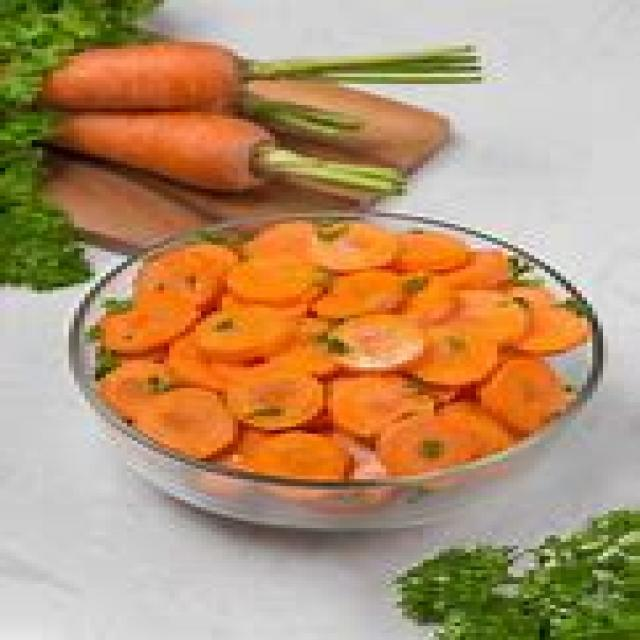carrot: (45, 111, 274, 198), (37, 43, 260, 109)
